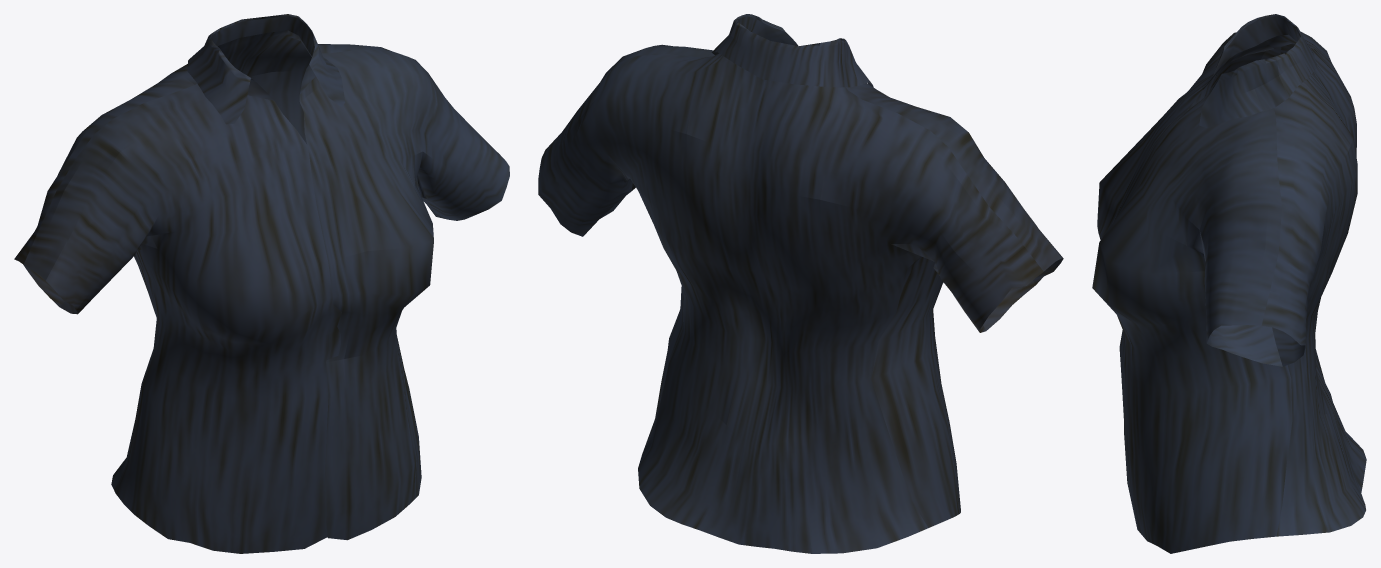
Rendered from SL_XLF.dae.
3 renders of one model, left to right at view 1: azimuth 30°, elevation 25°; view 2: azimuth 150°, elevation 25°; view 3: azimuth 270°, elevation 25°, orthographic. The views are drawn at different scales.
Parts seen in each view (by area): view 1: SL; view 2: SL; view 3: SL.
Part boxes in pixels (x1,y1,x2,y2): SL: (14,14,509,553); SL: (538,14,1063,553); SL: (1092,14,1366,553).
Bounding box in the file's own units: 5.92 × 5.66 × 2.96.
